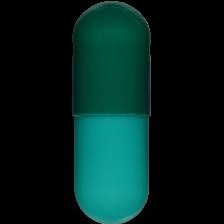51079-007: (0, 0, 224, 224)
